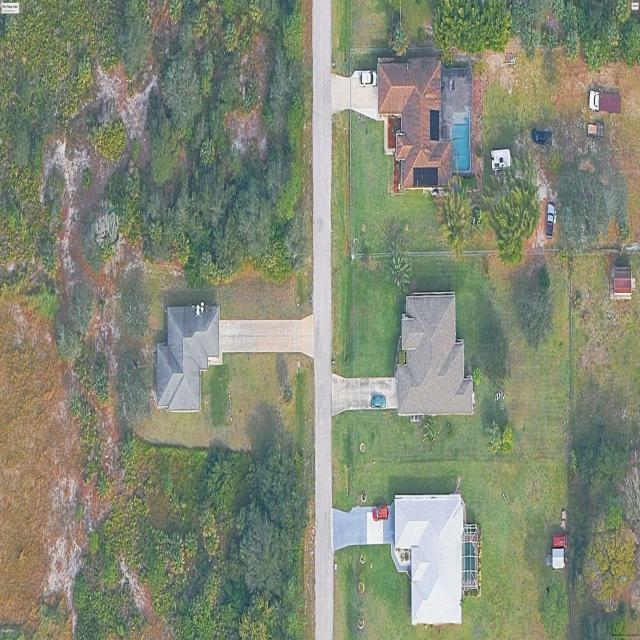Home: (377, 57, 472, 190), (396, 292, 474, 416), (394, 494, 464, 625), (156, 305, 219, 412)
